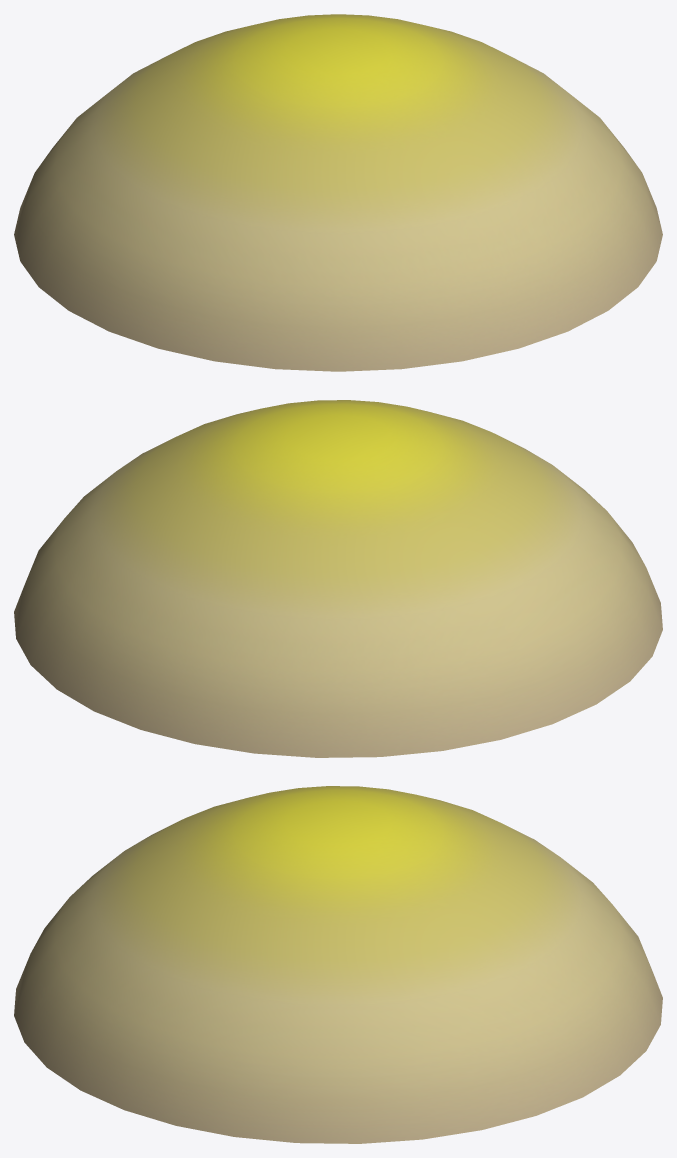
The model's file is Island.FBX.
3 renders of one model, top to bottom at view 1: azimuth 30°, elevation 25°; view 2: azimuth 150°, elevation 25°; view 3: azimuth 270°, elevation 25°, orthographic.
Parts seen in each view (by area): view 1: Island; view 2: Island; view 3: Island.
Part boxes in pixels (left/top/right/bottom): Island: left=14, top=14, right=662, bottom=371; Island: left=14, top=400, right=662, bottom=757; Island: left=14, top=786, right=662, bottom=1143.
Size of the model in its own units: 372 by 118 by 372.
